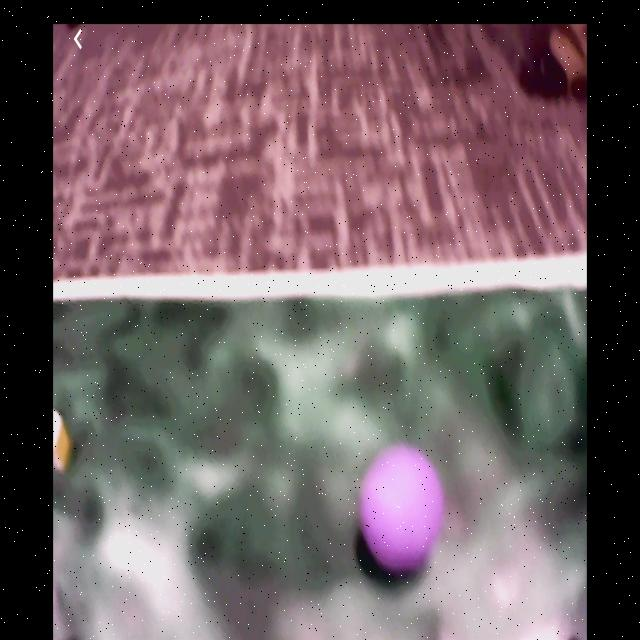ball: (360, 445, 446, 570)
